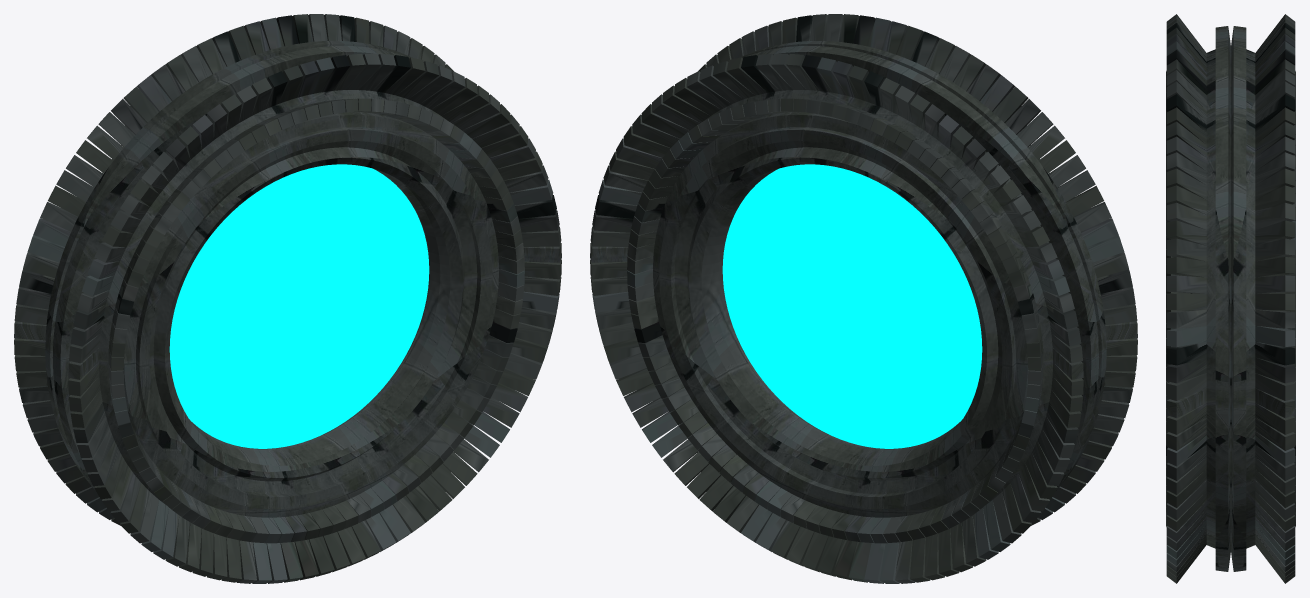
File: radical_portal-7ea7865e.glb
The picture shows the model from 3 angles, left to right: view 1: azimuth 30°, elevation 25°; view 2: azimuth 150°, elevation 25°; view 3: azimuth 270°, elevation 25°; orthographic projection.
Visible parts, largest first — view 1: portal, Cube; view 2: portal, Cube; view 3: portal.
Boxes of the visible parts, bbox=[...] form: portal: bbox=[14, 14, 561, 583]; Cube: bbox=[169, 164, 429, 448]; portal: bbox=[590, 14, 1137, 583]; Cube: bbox=[722, 164, 982, 448]; portal: bbox=[1166, 14, 1295, 583].
Size of the model in its own units: 15.29 by 15.29 by 3.48.
Materials: 2 (1 with a texture image).
